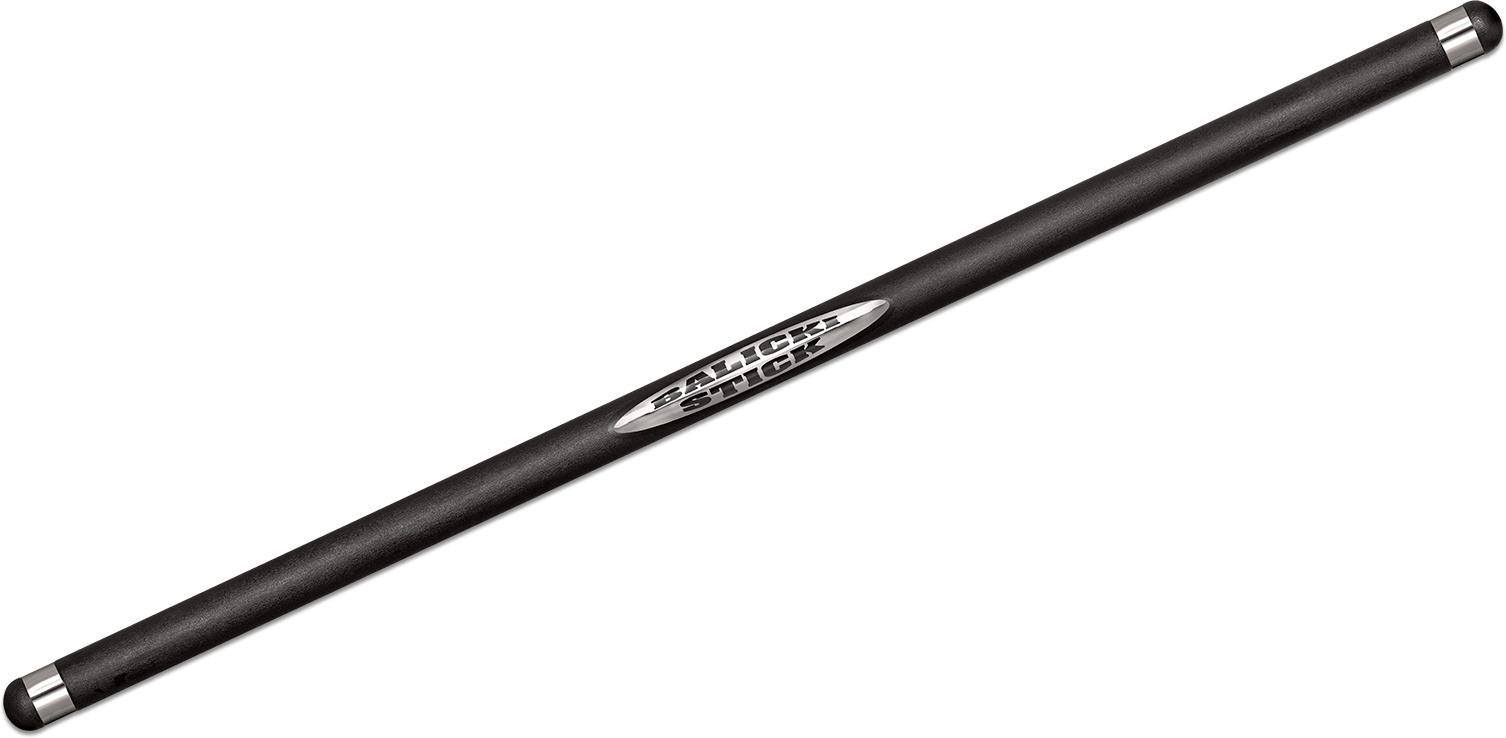bita: (5, 4, 1484, 734)
